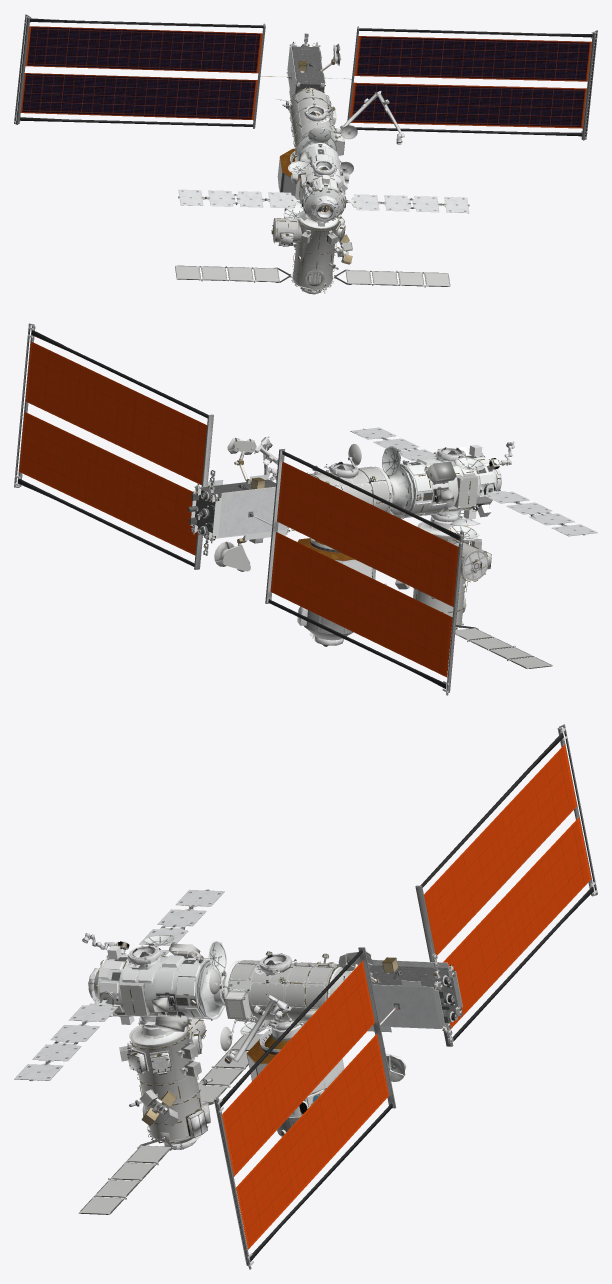
The model's file is станция-шлюз.glb.
3 renders of one model, top to bottom at view 1: azimuth 30°, elevation 25°; view 2: azimuth 150°, elevation 25°; view 3: azimuth 270°, elevation 25°, orthographic. The views are drawn at different scales.
Parts seen in each view (by area): view 1: Maxar_PPE Array, Airlock, I-Hab, NG_HALO.001, Maxar_PPE.001, NDS port active hatch.006, Big Arm_1, ERMXL_LoRes; view 2: Maxar_PPE Array, I-Hab, Maxar_PPE.001, Airlock, NDS port active hatch.006, NG_HALO.001, ERMXL_LoRes, Big Arm_1, NDS port active hatch.007; view 3: Maxar_PPE Array, I-Hab, Airlock, Maxar_PPE.001, NG_HALO.001, NDS port active hatch.006, ERMXL_LoRes, Big Arm_1, NDS port active hatch.007.
Boxes of the visible parts, bbox=[...] form: Maxar_PPE Array: bbox=[14, 14, 597, 140]; Airlock: bbox=[175, 215, 450, 293]; I-Hab: bbox=[178, 143, 469, 226]; NG_HALO.001: bbox=[276, 88, 357, 174]; Maxar_PPE.001: bbox=[286, 33, 341, 100]; NDS port active hatch.006: bbox=[283, 127, 339, 294]; Big Arm_1: bbox=[301, 91, 404, 196]; ERMXL_LoRes: bbox=[277, 148, 299, 219]; Maxar_PPE Array: bbox=[14, 323, 463, 695]; I-Hab: bbox=[350, 427, 597, 536]; Maxar_PPE.001: bbox=[188, 437, 289, 571]; Airlock: bbox=[384, 520, 552, 669]; NDS port active hatch.006: bbox=[382, 446, 501, 540]; NG_HALO.001: bbox=[287, 444, 392, 530]; ERMXL_LoRes: bbox=[297, 538, 375, 640]; Big Arm_1: bbox=[254, 436, 514, 479]; NDS port active hatch.007: bbox=[309, 461, 393, 646]; Maxar_PPE Array: bbox=[214, 724, 597, 1269]; I-Hab: bbox=[14, 889, 226, 1081]; Airlock: bbox=[78, 1017, 262, 1214]; Maxar_PPE.001: bbox=[338, 950, 463, 1081]; NG_HALO.001: bbox=[209, 951, 351, 1052]; NDS port active hatch.006: bbox=[88, 934, 226, 1149]; ERMXL_LoRes: bbox=[246, 1023, 344, 1136]; Big Arm_1: bbox=[82, 933, 291, 1063]; NDS port active hatch.007: bbox=[221, 953, 304, 1038].
Size of the model in its own units: 8.8 by 4.04 by 6.79.
Materials: 13 (13 with a texture image).
